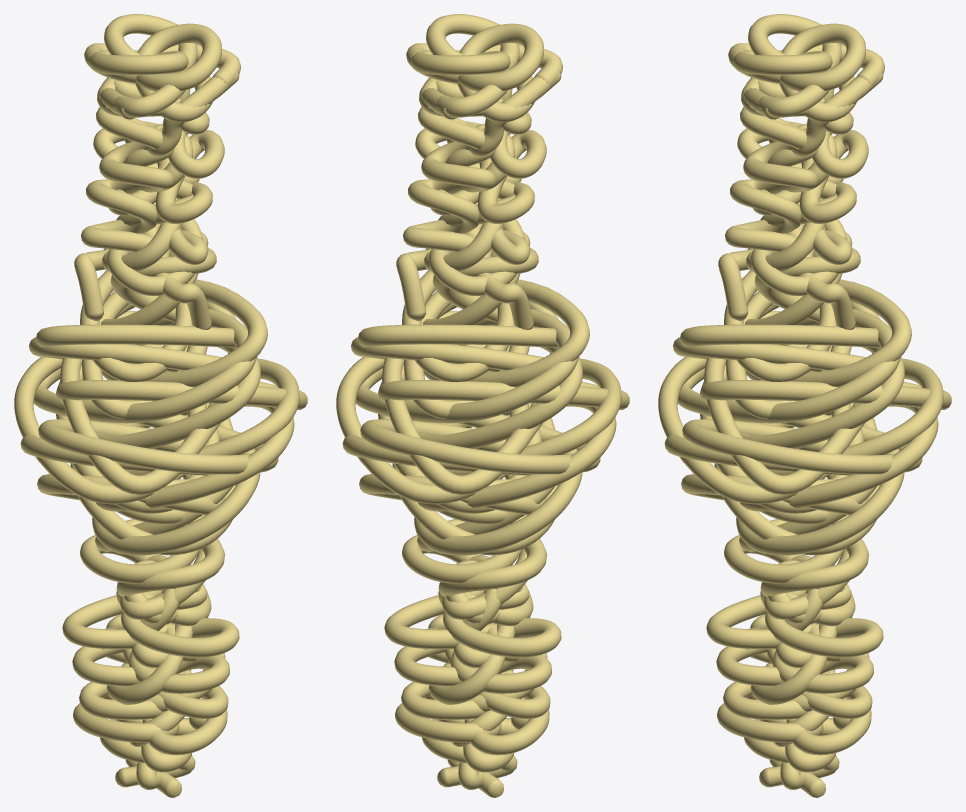
3 renders of one model, left to right at view 1: azimuth 30°, elevation 25°; view 2: azimuth 150°, elevation 25°; view 3: azimuth 270°, elevation 25°, orthographic.
Parts seen in each view (by area): view 1: flight4; view 2: flight4; view 3: flight4.
Part boxes in pixels (x1,y1,x2,y2): flight4: (14,14,307,797); flight4: (336,14,629,797); flight4: (658,14,951,797).
Size of the model in its own units: 21.39 by 58.46 by 20.72.
